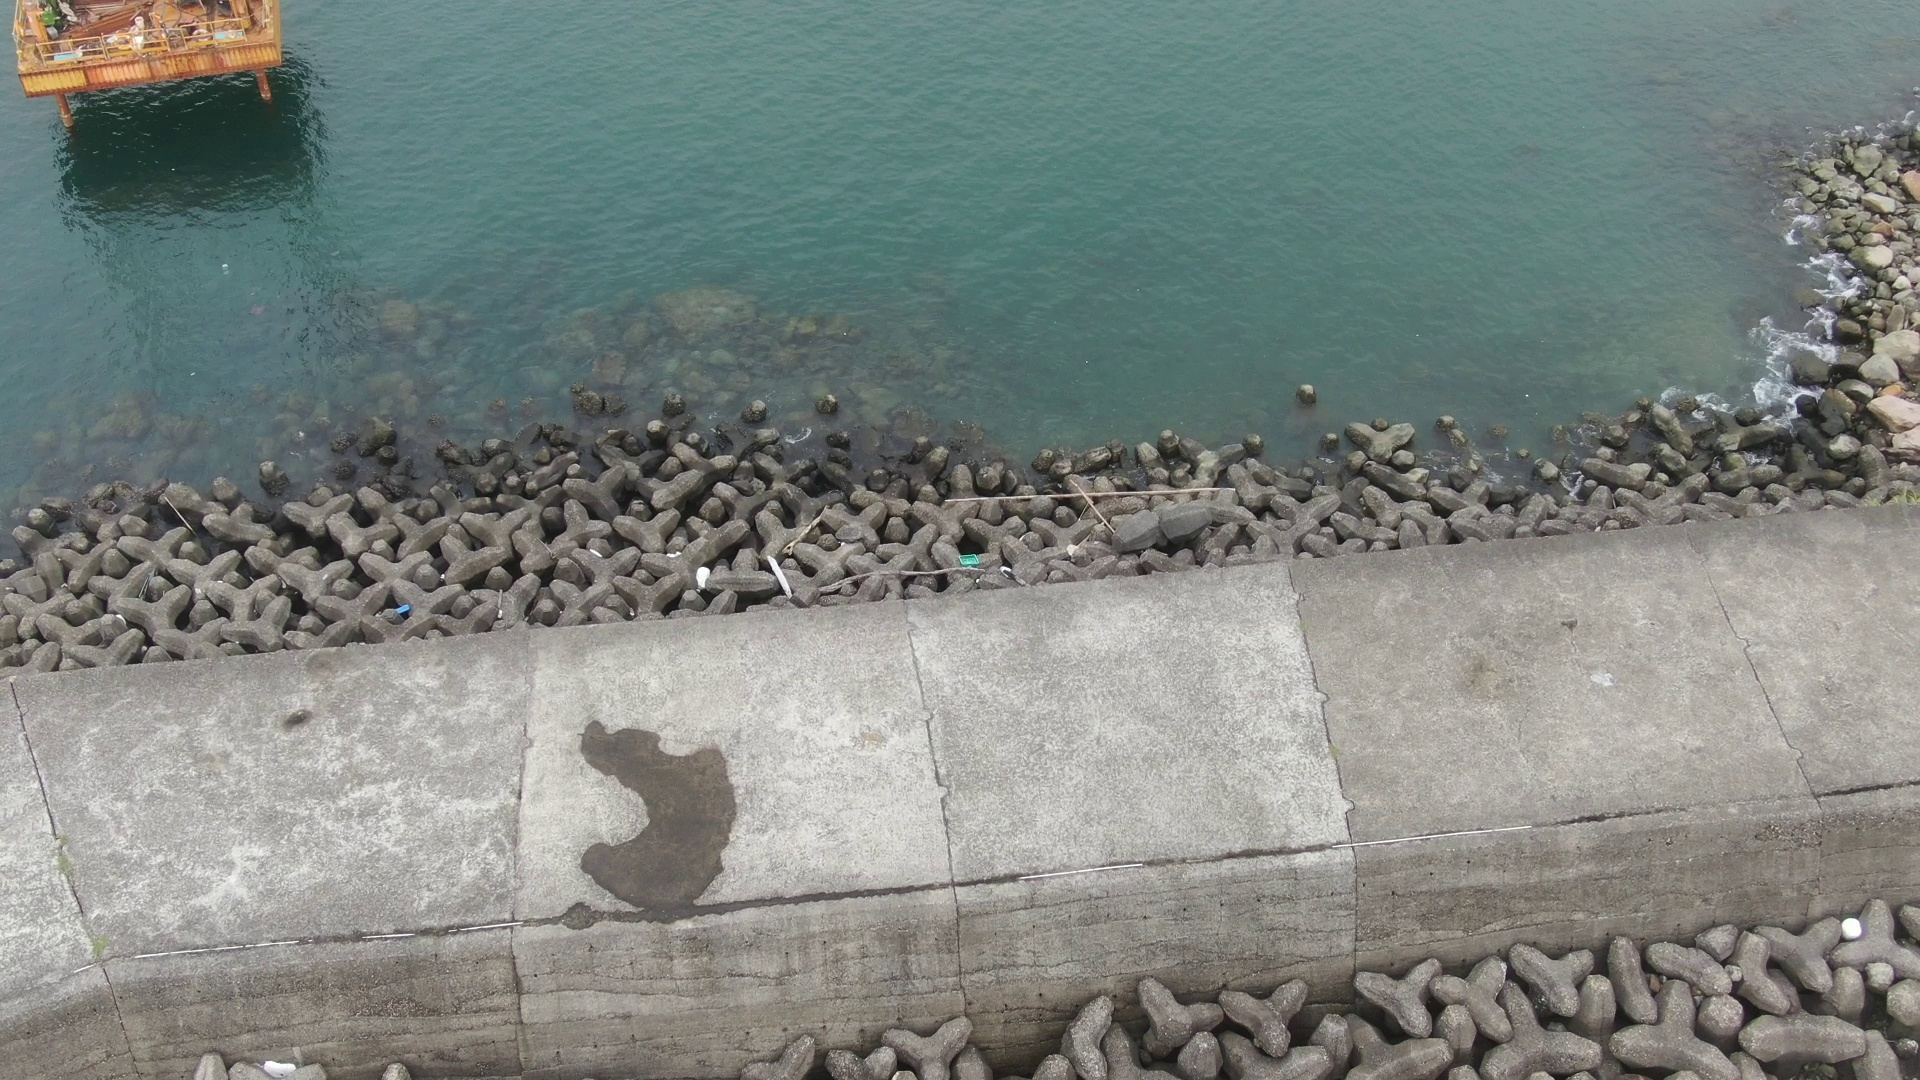garbage: (695, 558, 716, 603), (1837, 911, 1865, 944), (952, 547, 986, 572), (396, 597, 418, 624)
